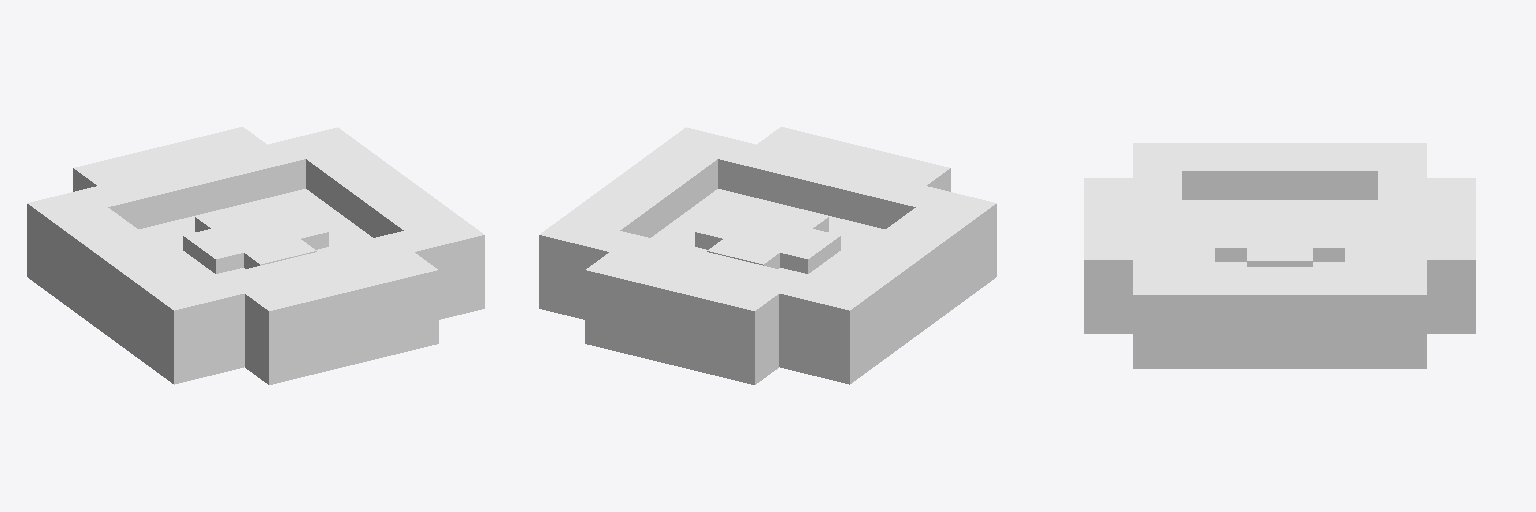
Rendered from gold.obj.
The picture shows the model from 3 angles: view 1: azimuth 30°, elevation 25°; view 2: azimuth 150°, elevation 25°; view 3: azimuth 270°, elevation 25°; orthographic projection.
Size of the model in its own units: 22 by 5 by 24.